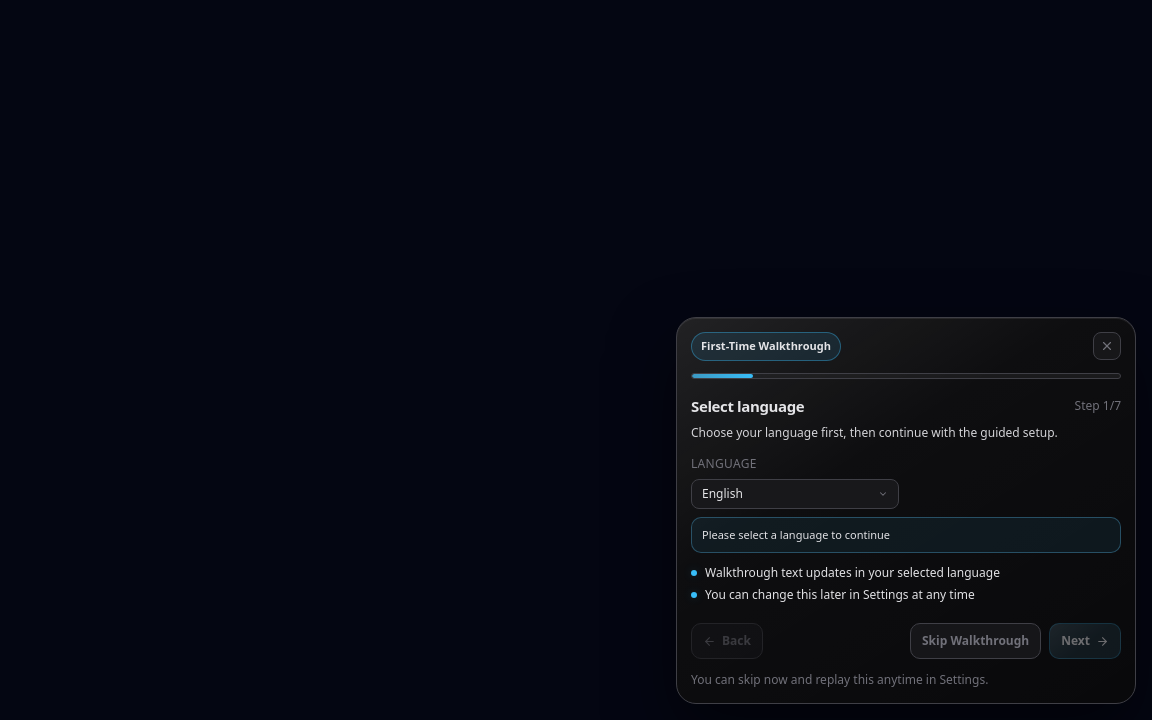
it: FirstRunWalkthrough — passo de idioma › oferece os mesmos idiomas que o app suporta
Click the button "English".
click(795, 494)  # box [691,478,899,508]
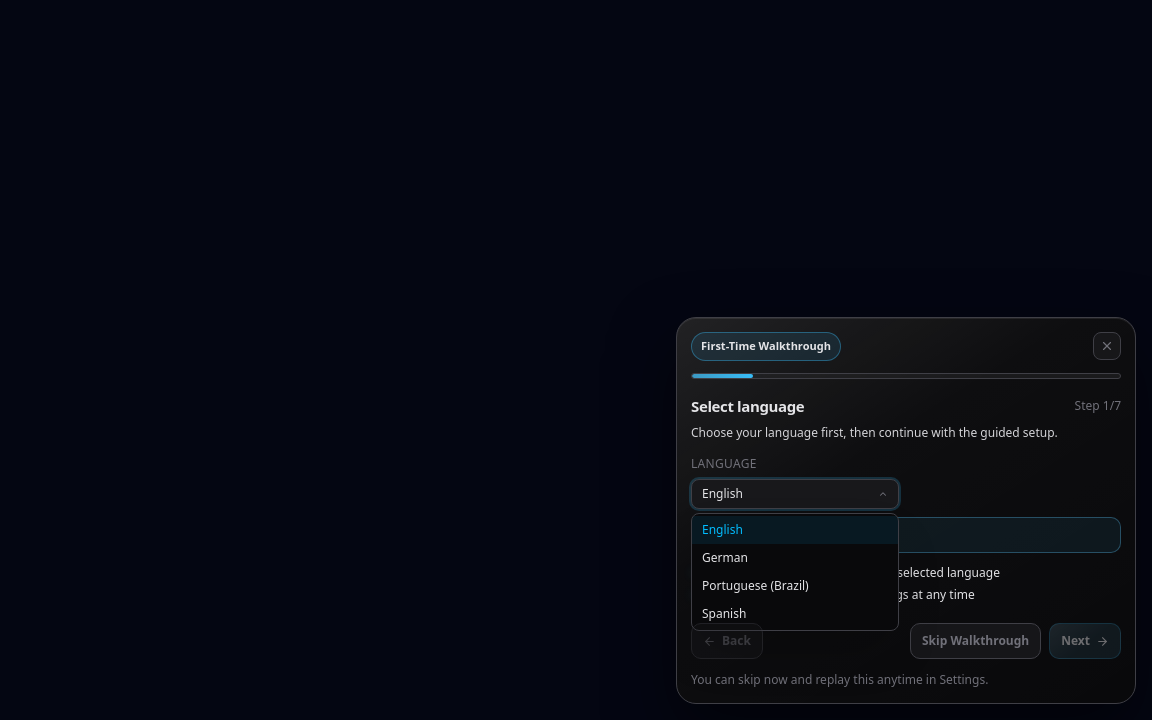
Check: the button "German" is shown, box [692,544,898,572]
Check: the button "Portuguese (Brazil)" is shown, box [692,572,898,600]
Check: the button "Spanish" is shown, box [692,600,898,628]
